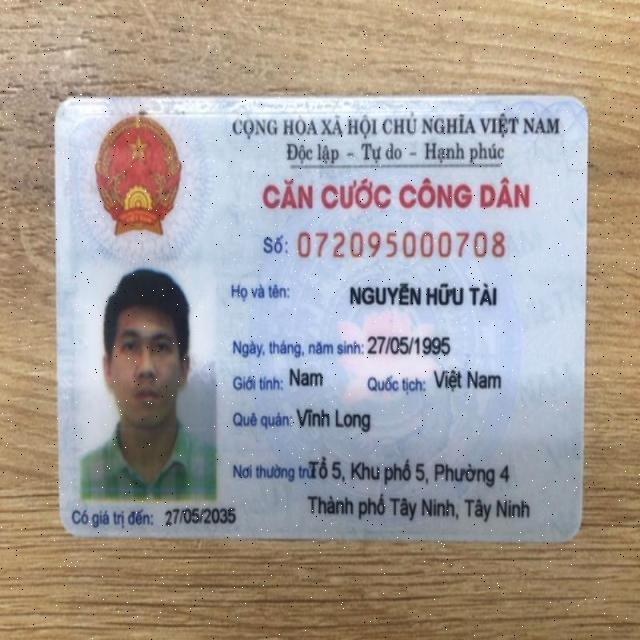current_place: (304, 488, 543, 524), (309, 454, 512, 488)
dob: (366, 329, 456, 363)
expire_date: (164, 504, 239, 531)
gender: (286, 363, 325, 393)
id: (294, 227, 505, 263)
name: (348, 279, 501, 311)
nationality: (432, 365, 506, 394)
origin_place: (288, 403, 379, 433)
